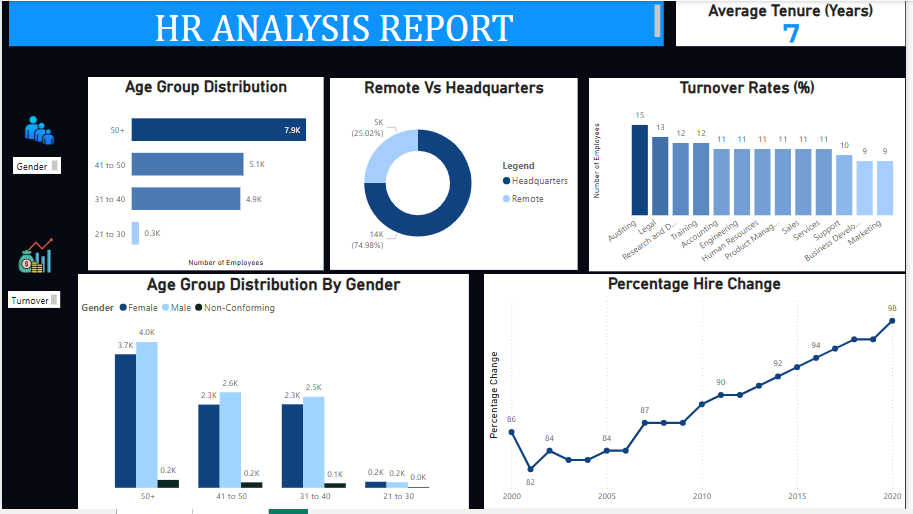

What the dashboard file says about the page in this screenshot:
{"tool":"powerbi","page":{"name":"Page 2","canvas":[1280,720],"ordinal":1},"visuals":[{"type":"clusteredBarChart","title":"Age Group Distribution","fields":{"Category":["age group distribution.age group"],"Y":["Sum(age group distribution.count)"]},"box":[9.9,0,334.5,273.5],"z":0},{"type":"clusteredColumnChart","title":"Age Group Distribution By Gender","fields":{"Y":["Sum(age group distribution by gender.Column3)"],"Category":["age group distribution by gender.Column1"],"Series":["age group distribution by gender.Column2"]},"box":[9.5,360.8,569,359.2],"z":1000},{"type":"columnChart","title":"Turnover Rates (%)","fields":{"Y":["Sum(turnover rates.Turnover rate)"],"Category":["turnover rates.Dept"]},"box":[782.4,0,487.6,273.5],"z":2000},{"type":"lineChart","title":"Percentage Hire Change","fields":{"Y":["Sum(percentage hire change.percent change)"],"Category":["percentage hire change.year"]},"box":[626.2,360.8,653.2,359.2],"z":3000},{"type":"donutChart","title":"Remote Vs Headquarters","fields":{"Category":["remote vs headquarters.Column1"],"Y":["Sum(remote vs headquarters.Column2)"]},"box":[388.3,0,351.5,272.1],"z":4000}]}

Visuals, with their boxes in screenshot pixels (x1, y1, x2, y2), scaled from the page's 1280x720 canvas onto the 913x514 screenshot:
"Age Group Distribution" clusteredBarChart: 7:0:246:195
"Age Group Distribution By Gender" clusteredColumnChart: 7:258:413:513
"Turnover Rates (%)" columnChart: 558:0:906:195
"Percentage Hire Change" lineChart: 447:258:912:513
"Remote Vs Headquarters" donutChart: 277:0:528:194
